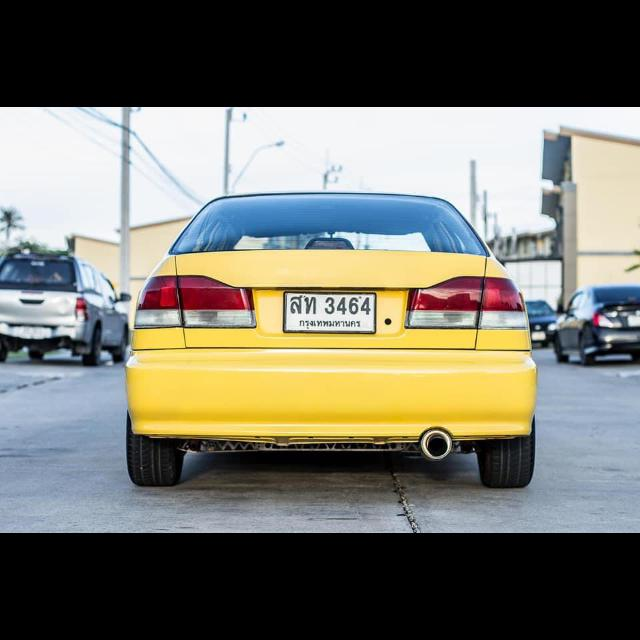cars: (118, 182, 544, 498)
